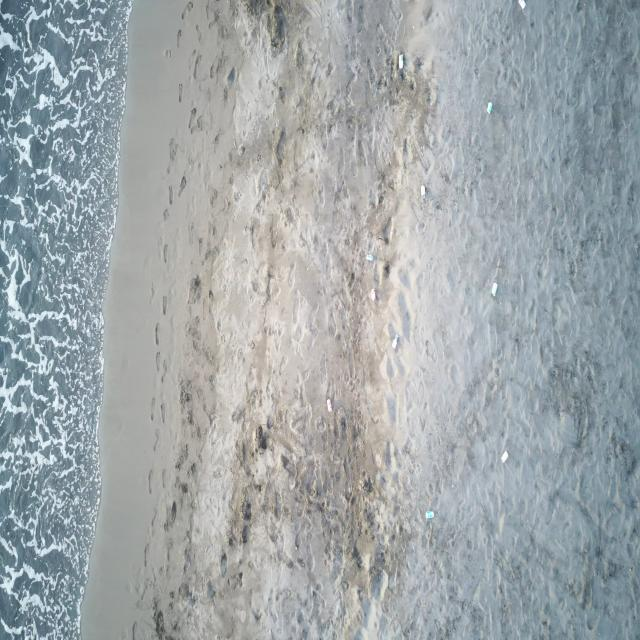Garbage: (392, 332, 399, 348), (500, 449, 507, 462), (397, 54, 403, 68), (424, 510, 433, 519), (491, 282, 496, 296), (369, 289, 375, 300), (517, 0, 524, 9), (487, 100, 492, 112), (327, 397, 331, 412), (367, 253, 375, 260), (420, 183, 423, 198)
